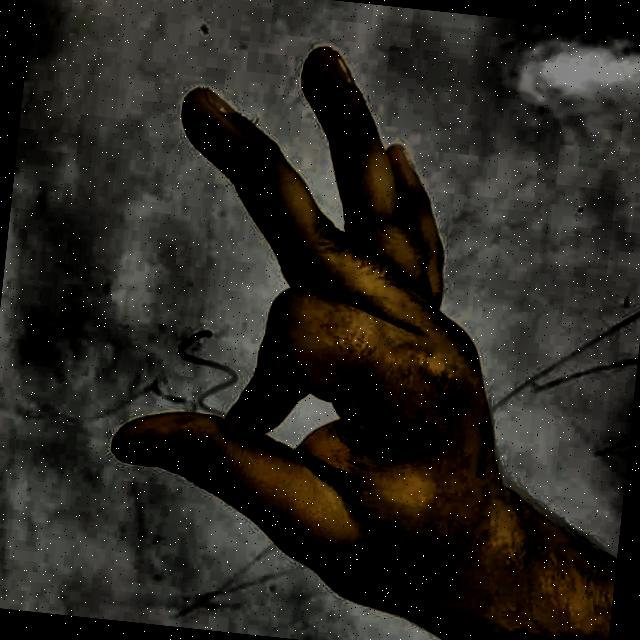Uo: (33, 0, 617, 640)
